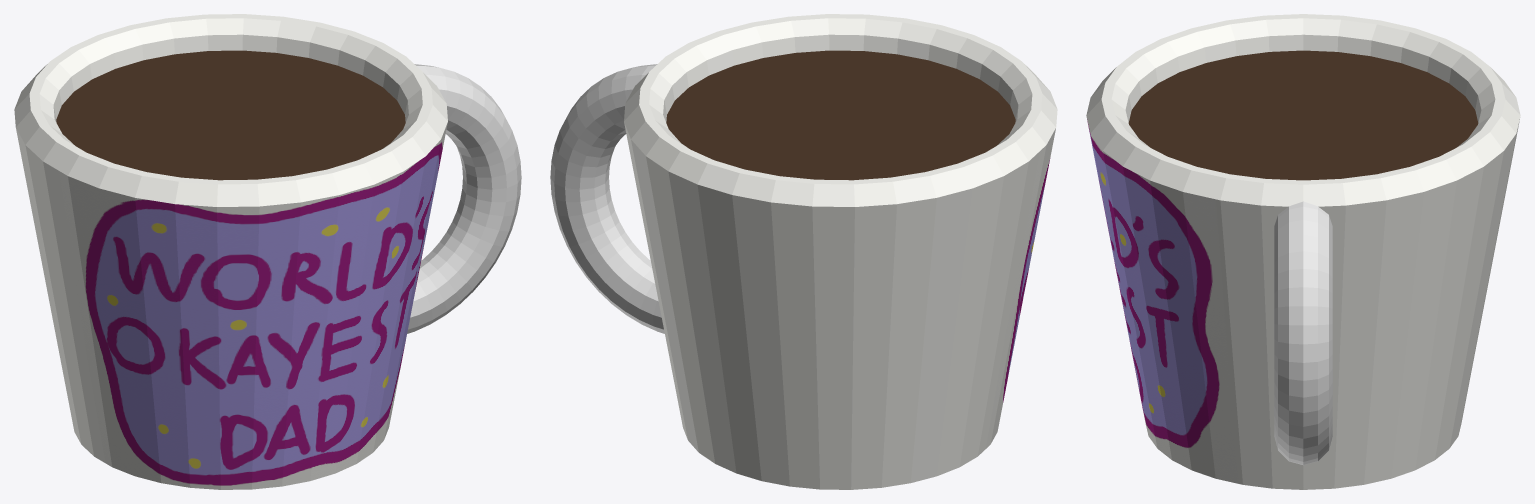
Rendered from Cup_(full).fbx.
3 renders of one model, left to right at view 1: azimuth 30°, elevation 25°; view 2: azimuth 150°, elevation 25°; view 3: azimuth 270°, elevation 25°, orthographic.
Parts seen in each view (by area): view 1: Torus, Cylinder.001, Torus.001; view 2: Torus, Cylinder.001, Torus.001; view 3: Torus, Cylinder.001, Torus.001.
Part boxes in pixels (x1,y1,x2,y2): Torus: [14, 14, 447, 489]; Cylinder.001: [56, 50, 405, 180]; Torus.001: [407, 64, 521, 333]; Torus: [624, 14, 1057, 489]; Cylinder.001: [666, 50, 1015, 180]; Torus.001: [550, 64, 664, 333]; Torus: [1086, 14, 1520, 489]; Cylinder.001: [1128, 50, 1478, 180]; Torus.001: [1274, 201, 1332, 465].
Size of the model in its own units: 119 by 77.66 by 94.39.
